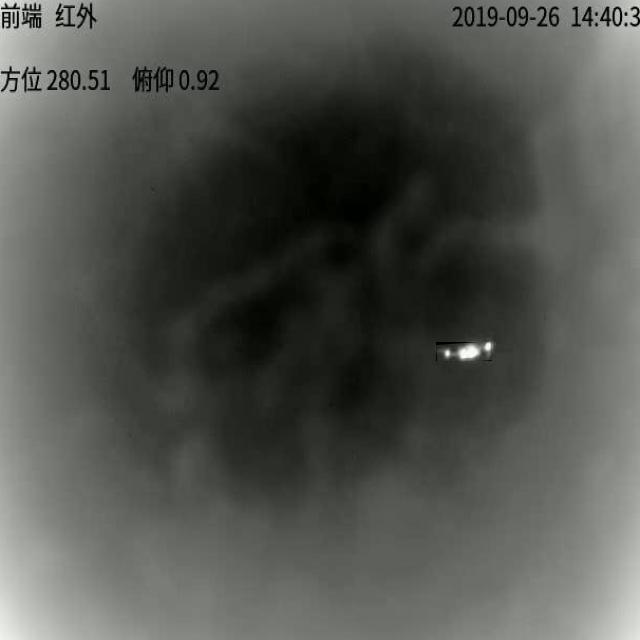drone: (437, 342, 492, 360)
